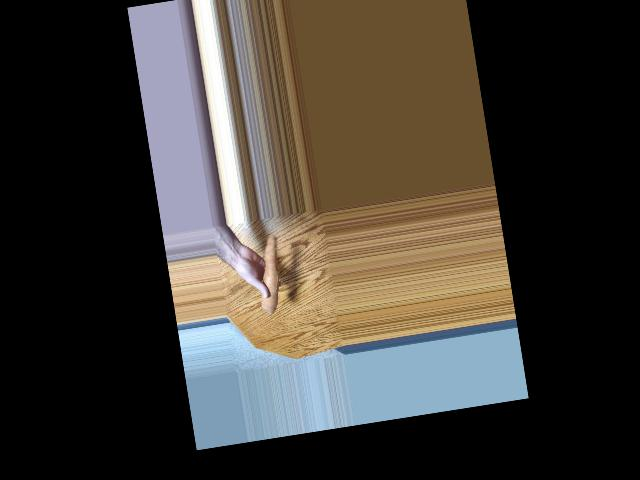sweet_potato: (257, 235, 284, 312)
